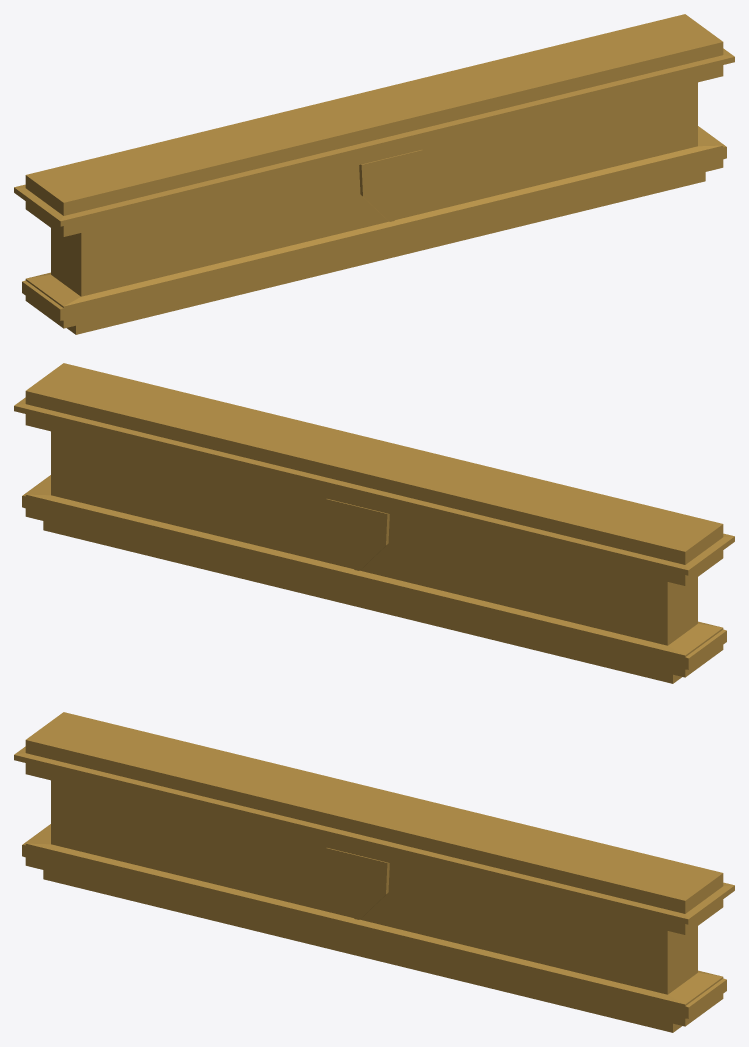
The model's file is Beam.fbx.
3 renders of one model, top to bottom at view 1: azimuth 30°, elevation 25°; view 2: azimuth 150°, elevation 25°; view 3: azimuth 330°, elevation 25°, orthographic.
Visible parts, largest first — view 1: Beam; view 2: Beam; view 3: Beam.
Boxes of the visible parts, box(x1,y1,x2,y2) form: Beam: box(14, 14, 734, 334); Beam: box(14, 363, 734, 683); Beam: box(14, 712, 734, 1032).
Size of the model in its own units: 2044 by 399 by 244.
